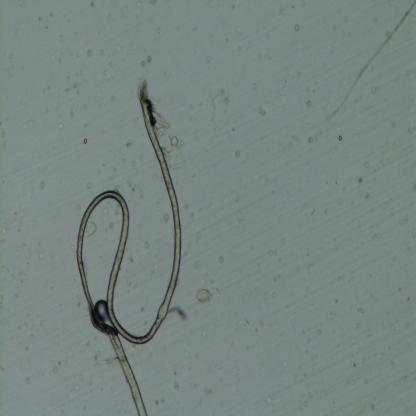Air bubble: (94, 298, 108, 318)
Background material: (336, 3, 415, 114), (156, 111, 182, 161), (208, 88, 229, 109), (193, 286, 214, 307), (4, 265, 23, 288), (166, 304, 188, 320), (65, 75, 81, 93), (84, 221, 98, 241), (128, 180, 143, 198), (47, 358, 59, 374), (140, 54, 152, 68), (368, 231, 382, 241), (204, 53, 212, 69), (290, 136, 299, 150), (7, 58, 14, 76), (39, 178, 48, 192), (70, 381, 81, 392), (191, 258, 200, 270), (257, 105, 266, 117), (228, 2, 238, 12), (266, 245, 275, 256), (310, 204, 317, 218), (38, 248, 46, 260), (173, 379, 181, 391), (304, 100, 313, 110), (356, 304, 365, 314), (69, 105, 75, 119), (234, 148, 241, 160), (143, 238, 150, 250), (95, 350, 102, 362), (328, 309, 338, 317), (20, 343, 28, 353), (342, 10, 349, 21), (156, 398, 167, 405), (389, 358, 397, 367), (294, 69, 303, 77), (163, 214, 171, 223), (25, 377, 34, 385), (381, 202, 389, 211), (273, 274, 282, 282), (58, 30, 64, 42), (235, 309, 242, 319), (88, 378, 94, 389), (88, 47, 94, 58), (124, 140, 132, 148), (202, 386, 210, 394), (116, 44, 123, 53), (294, 23, 300, 33), (238, 213, 244, 223), (75, 203, 83, 210), (359, 356, 366, 364), (307, 136, 314, 144), (150, 172, 157, 180), (370, 294, 378, 301), (396, 284, 403, 292), (366, 271, 374, 278), (251, 80, 257, 89), (148, 0, 158, 5), (19, 96, 24, 106), (280, 5, 285, 15), (157, 174, 164, 181), (155, 196, 162, 203), (220, 256, 226, 264), (401, 147, 407, 155), (236, 28, 242, 36), (82, 138, 88, 146), (390, 324, 396, 332), (358, 176, 364, 184), (316, 327, 322, 335), (256, 52, 262, 60), (235, 194, 241, 202), (370, 402, 376, 410), (270, 290, 276, 298), (322, 207, 328, 215), (109, 220, 114, 229), (140, 306, 146, 313), (128, 256, 134, 263), (249, 245, 255, 252), (85, 182, 92, 188), (194, 309, 200, 316), (58, 122, 64, 129), (0, 130, 6, 137), (297, 405, 303, 412), (283, 360, 288, 368), (264, 292, 269, 300), (110, 96, 116, 102), (292, 375, 298, 381), (225, 33, 229, 42), (338, 193, 342, 202), (334, 297, 339, 304), (247, 318, 251, 326), (260, 318, 264, 326), (304, 400, 308, 408), (103, 68, 107, 76), (281, 236, 285, 244), (131, 160, 136, 166), (332, 25, 337, 31), (338, 135, 343, 141), (103, 208, 108, 214), (15, 28, 20, 34), (354, 323, 360, 328), (101, 50, 106, 56), (365, 162, 370, 167), (193, 383, 198, 388), (381, 151, 386, 156), (203, 331, 207, 337), (2, 227, 6, 233), (186, 204, 190, 209), (59, 59, 63, 64), (344, 187, 347, 193), (232, 127, 235, 133), (38, 18, 42, 22), (221, 23, 225, 27), (407, 297, 410, 302), (173, 371, 176, 376), (366, 196, 370, 199), (335, 180, 338, 184), (248, 345, 250, 350), (158, 30, 161, 33), (354, 363, 356, 367), (188, 368, 190, 371), (313, 91, 315, 94)
Microfibre: (75, 77, 181, 415)
